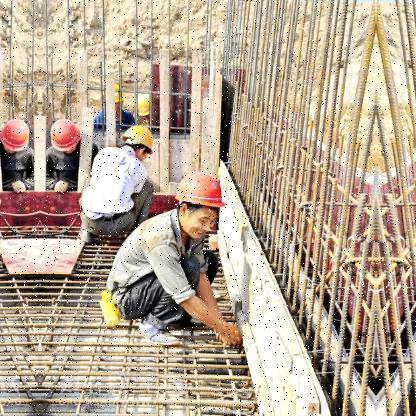helmet: (170, 166, 225, 235), (124, 123, 159, 166), (51, 116, 84, 155), (2, 115, 33, 155), (134, 91, 159, 123), (108, 80, 128, 112)
